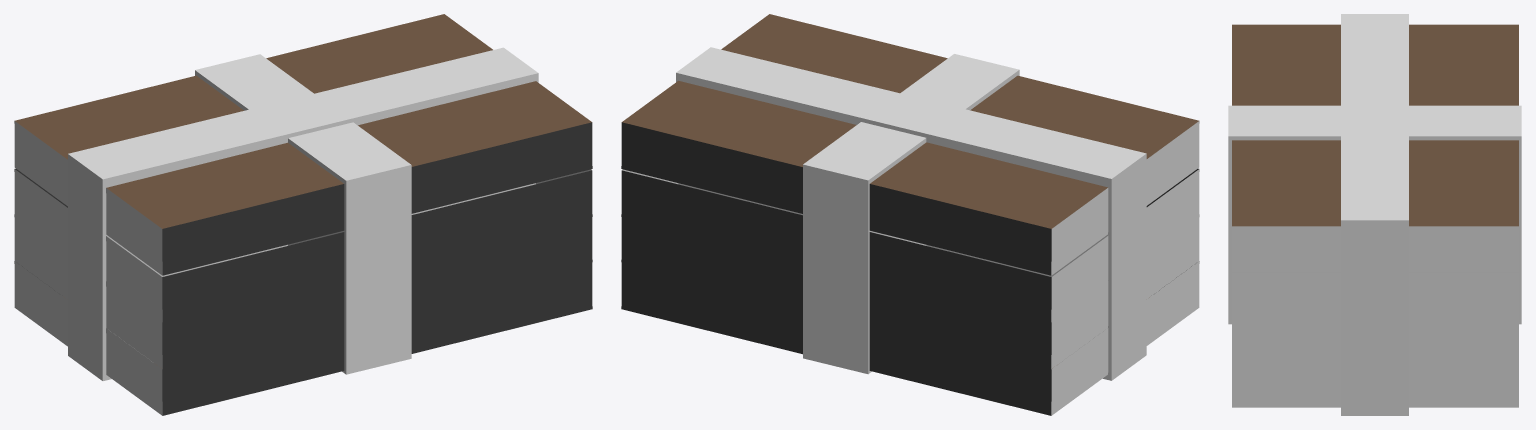
Rendered from book_tied.glb.
3 views of the same model, side by side, from view 1: azimuth 30°, elevation 25°; view 2: azimuth 150°, elevation 25°; view 3: azimuth 270°, elevation 25° (orthographic). The views are drawn at different scales.
Parts seen in each view (by area): view 1: book_tied; view 2: book_tied; view 3: book_tied.
Part boxes in pixels (x1=…): book_tied: x1=14, y1=14, x2=592, y2=415; book_tied: x1=621, y1=14, x2=1199, y2=415; book_tied: x1=1228, y1=14, x2=1521, y2=415.
Size of the model in its own units: 0.4563 by 0.202 by 0.2745.
